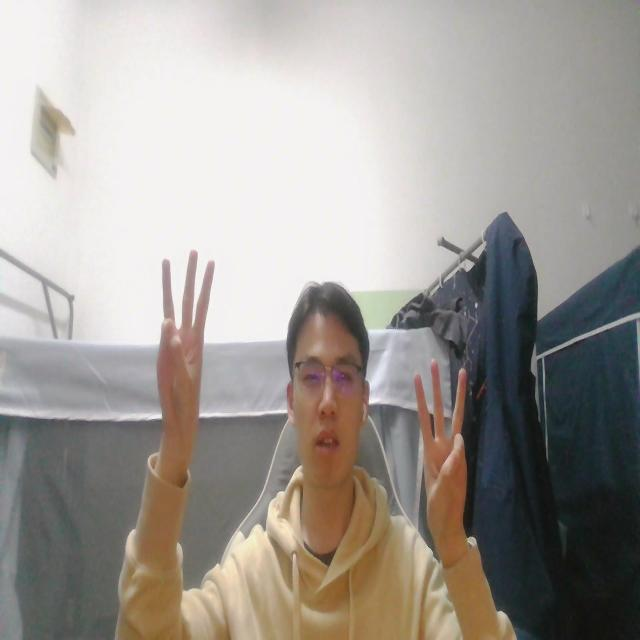three: (147, 245, 220, 435), (410, 360, 473, 538)
